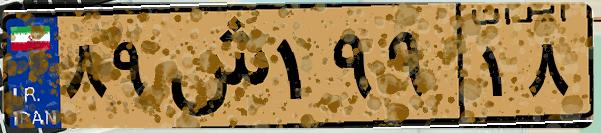1: (270, 28, 330, 110), (475, 38, 525, 113)
8: (57, 26, 110, 100), (525, 38, 570, 115)
9: (385, 28, 445, 110), (330, 28, 385, 110), (110, 28, 158, 98)
ش: (158, 12, 270, 120)
